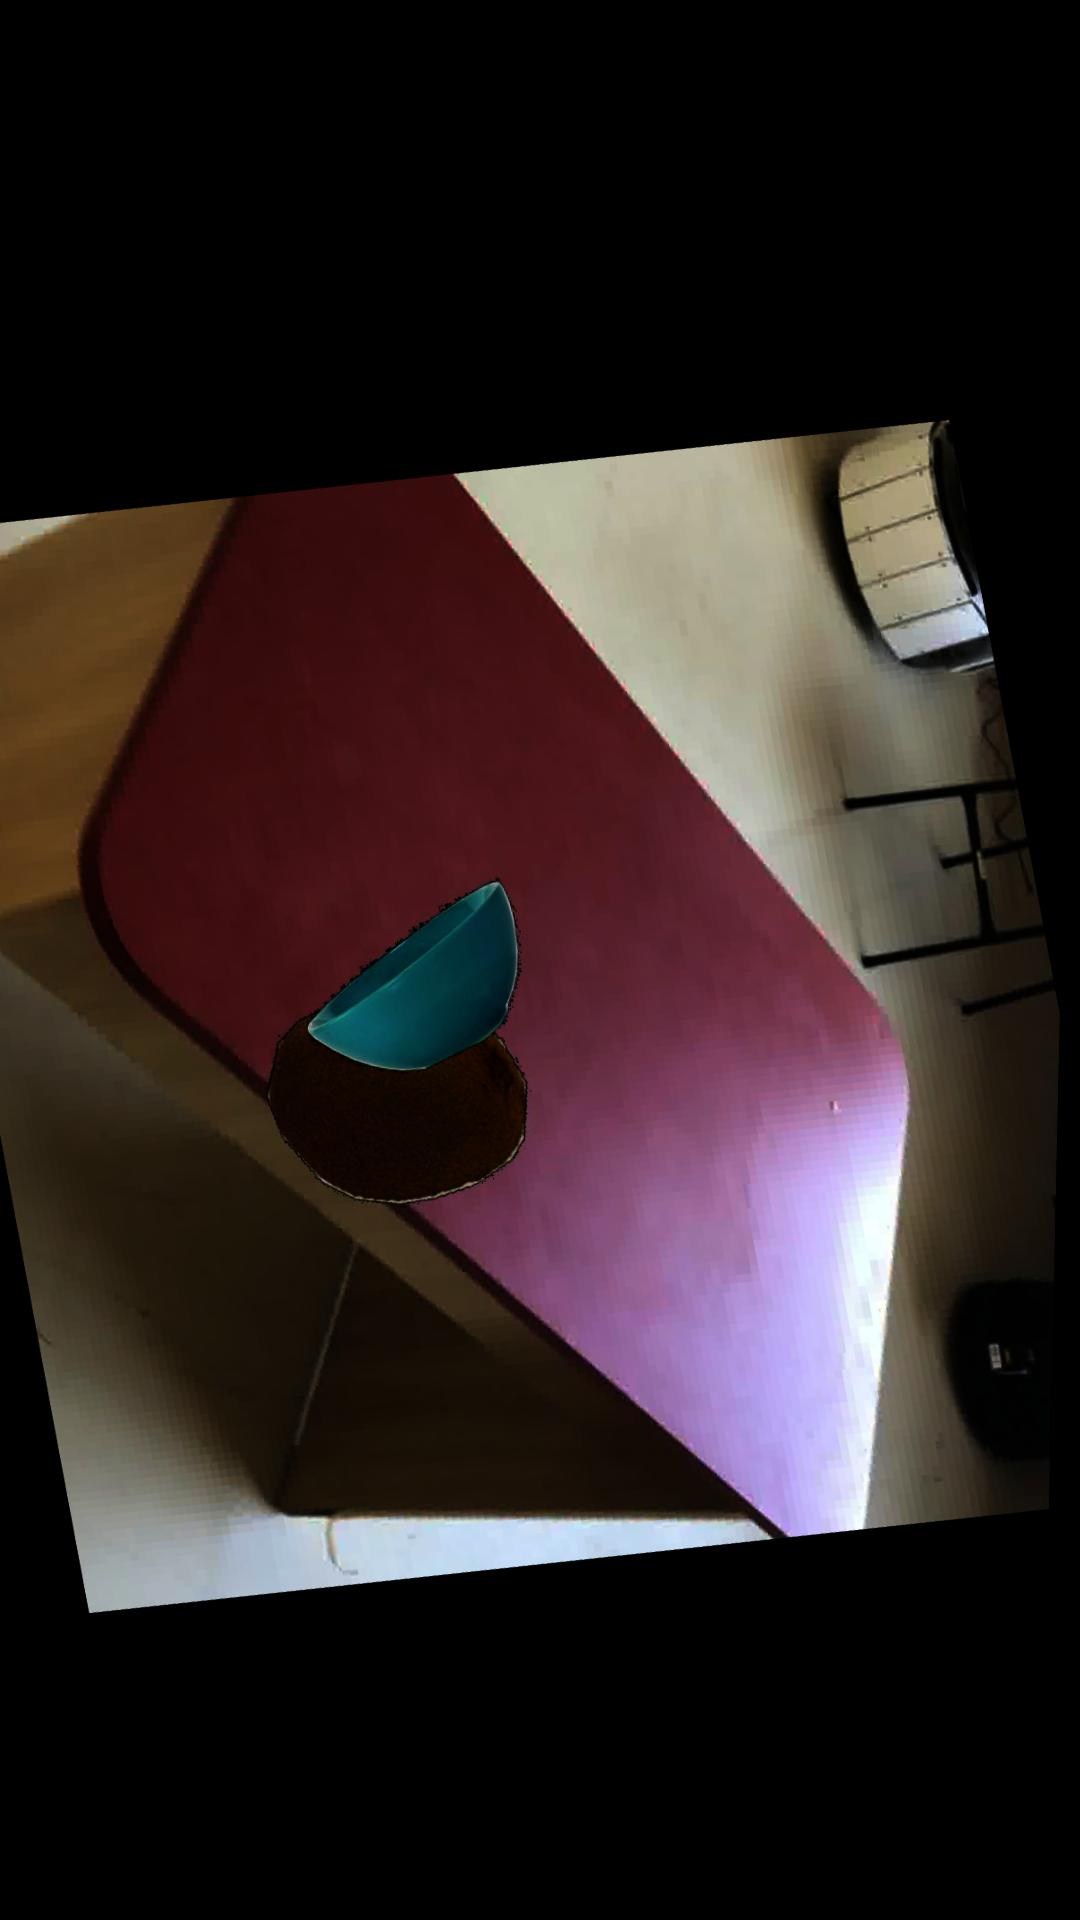bowl: (313, 869, 525, 1064)
kiwi: (273, 1005, 534, 1196)
